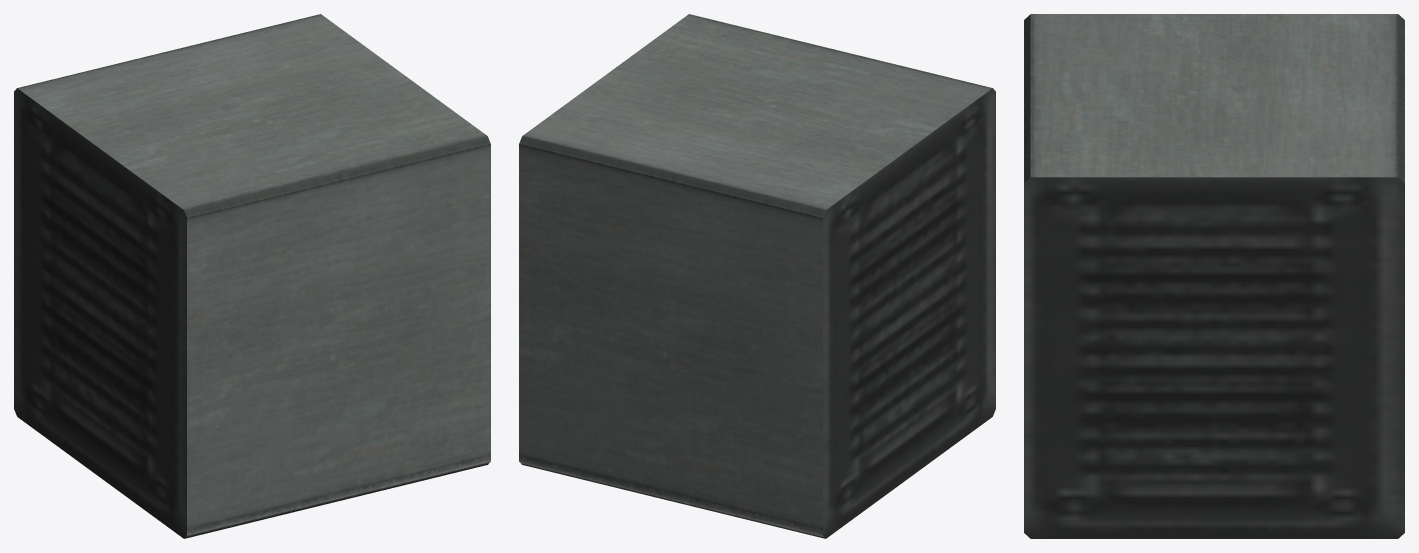
The model's file is Box_vent.FBX.
3 views of the same model, side by side, from view 1: azimuth 30°, elevation 25°; view 2: azimuth 150°, elevation 25°; view 3: azimuth 270°, elevation 25° (orthographic). The views are drawn at different scales.
Parts seen in each view (by area): view 1: Box_vent; view 2: Box_vent; view 3: Box_vent.
Boxes of the visible parts, left/top/right/bottom form: Box_vent: left=14, top=14, right=490, bottom=538; Box_vent: left=519, top=14, right=995, bottom=538; Box_vent: left=1024, top=14, right=1404, bottom=538.
Size of the model in its own units: 1 by 0.9859 by 1.03.
